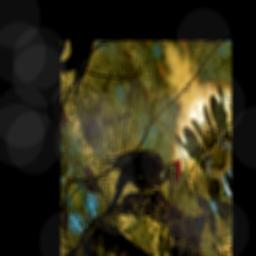Woodpecker: (100, 100, 190, 242)
